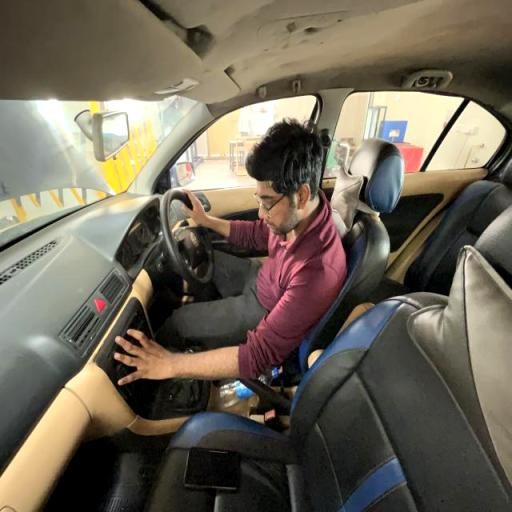operatingradio: (108, 119, 346, 387)
